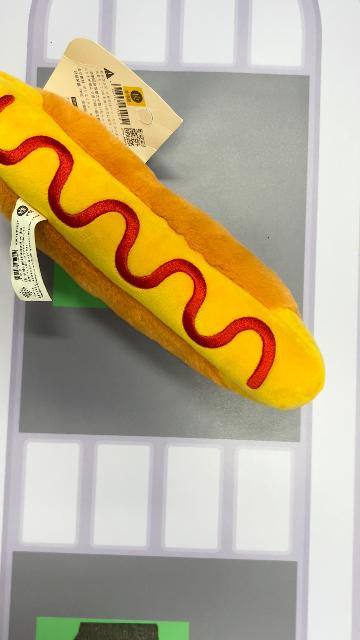hotdog: (1, 70, 326, 412)
